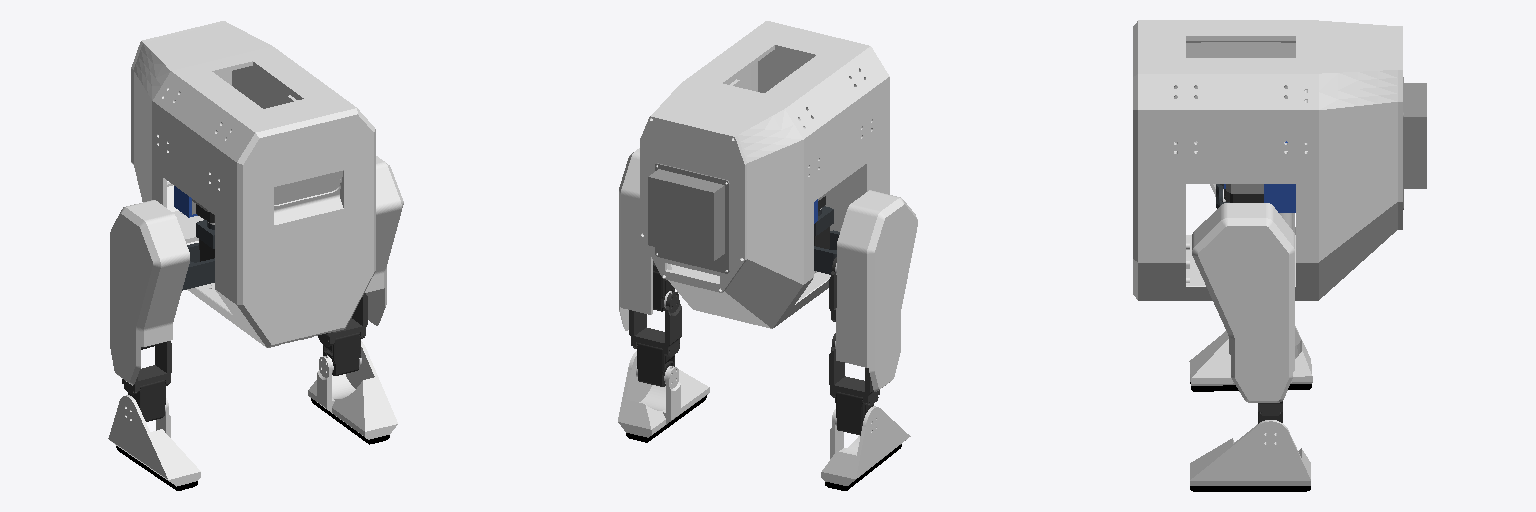
--- Render facts (derived) ---
The picture shows the robot from 3 angles, left to right: view 1: azimuth 30°, elevation 25°; view 2: azimuth 150°, elevation 25°; view 3: azimuth 270°, elevation 25°; orthographic projection.
Model my-robot with 11 links and 10 joints (10 revolute), rooted at front_panel, posed every joint at zero.
Links seen in each view (by area): view 1: front_panel, servo_holder_3_right, cushion_left, cushion_right, servo_holder_3_left, servo_holder_4_2, servo_holder_4, servo_holder_2_right, servo_holder_1_2; view 2: front_panel, servo_holder_3_right, servo_holder_3_left, cushion_left, cushion_right, servo_holder_4, servo_holder_4_2, servo_holder_2_right, servo_holder_1_2; view 3: front_panel, servo_holder_3_left, cushion_left, cushion_right.
Link boxes in pixels (x1,y1,x2,y2): front_panel: [131, 21, 375, 347]; servo_holder_3_right: [110, 200, 189, 385]; cushion_left: [308, 341, 397, 444]; cushion_right: [108, 395, 200, 490]; servo_holder_3_left: [365, 156, 403, 325]; servo_holder_4_2: [122, 341, 171, 421]; servo_holder_4: [318, 293, 367, 375]; servo_holder_2_right: [182, 243, 214, 290]; servo_holder_1_2: [196, 220, 214, 261]; front_panel: [640, 21, 889, 328]; servo_holder_3_right: [829, 190, 917, 391]; servo_holder_3_left: [619, 148, 674, 330]; cushion_left: [618, 351, 709, 442]; cushion_right: [821, 406, 910, 490]; servo_holder_4: [629, 291, 681, 386]; servo_holder_4_2: [829, 333, 879, 435]; servo_holder_2_right: [814, 230, 839, 274]; servo_holder_1_2: [814, 206, 833, 248]; front_panel: [1133, 20, 1426, 300]; servo_holder_3_left: [1192, 203, 1294, 402]; cushion_left: [1190, 420, 1310, 491]; cushion_right: [1189, 326, 1312, 391].
Bounding box of the posed robot: 0.3048 × 0.2892 × 0.4252 m (x, y, z).
95 mesh visuals loaded from 30 distinct referenced files (30 binary STL).

robot.urdf — my-robot:
<?xml version="1.0" ?>
<!-- Generated using onshape-to-robot -->
<!-- Onshape https://cad.onshape.com/documents/d45957d307d6fbeba266d572/w/bd9f549c3008356ba09feb92/e/47fc9c88b37be00f7acb3002 -->
<robot name="my-robot">
  <!-- Link front_panel -->
  <link name="front_panel">
    <inertial>
      <origin xyz="5.38804e-07 0.137822 0.00392853" rpy="0 0 0"/>
      <mass value="2.11436"/>
      <inertia ixx="0.0268936" ixy="8.14474e-06" ixz="4.80392e-07" iyy="0.0159621" iyz="-0.000408514" izz="0.0215141"/>
    </inertial>
    <!-- Part top_left_panel -->
    <visual>
      <origin xyz="0 0 -1.38778e-17" rpy="0 -0 0"/>
      <geometry>
        <mesh filename="package://assets/top_left_panel.stl"/>
      </geometry>
      <material name="top_left_panel_material">
        <color rgba="0.917647 0.917647 0.917647 1"/>
      </material>
    </visual>
    <collision>
      <origin xyz="0 0 -1.38778e-17" rpy="0 -0 0"/>
      <geometry>
        <mesh filename="package://assets/top_left_panel.stl"/>
      </geometry>
    </collision>
    <!-- Part top_right_panel -->
    <visual>
      <origin xyz="1.38778e-17 0 1.38778e-17" rpy="0 -0 0"/>
      <geometry>
        <mesh filename="package://assets/top_right_panel.stl"/>
      </geometry>
      <material name="top_right_panel_material">
        <color rgba="0.917647 0.917647 0.917647 1"/>
      </material>
    </visual>
    <collision>
      <origin xyz="1.38778e-17 0 1.38778e-17" rpy="0 -0 0"/>
      <geometry>
        <mesh filename="package://assets/top_right_panel.stl"/>
      </geometry>
    </collision>
    <!-- Part front_panel -->
    <visual>
      <origin xyz="0 0 0" rpy="0 -0 0"/>
      <geometry>
        <mesh filename="package://assets/front_panel.stl"/>
      </geometry>
      <material name="front_panel_material">
        <color rgba="0.917647 0.917647 0.917647 1"/>
      </material>
    </visual>
    <collision>
      <origin xyz="0 0 0" rpy="0 -0 0"/>
      <geometry>
        <mesh filename="package://assets/front_panel.stl"/>
      </geometry>
    </collision>
    <!-- Part servo_housing_connector -->
    <visual>
      <origin xyz="0.0505 0.121693 -0.00780285" rpy="0 -0 0"/>
      <geometry>
        <mesh filename="package://assets/servo_housing_connector.stl"/>
      </geometry>
      <material name="servo_housing_connector_material">
        <color rgba="0.917647 0.917647 0.917647 1"/>
      </material>
    </visual>
    <collision>
      <origin xyz="0.0505 0.121693 -0.00780285" rpy="0 -0 0"/>
      <geometry>
        <mesh filename="package://assets/servo_housing_connector.stl"/>
      </geometry>
    </collision>
    <!-- Part bottom_frame -->
    <visual>
      <origin xyz="0 0.0931549 -0.132536" rpy="0 -0 0"/>
      <geometry>
        <mesh filename="package://assets/bottom_frame.stl"/>
      </geometry>
      <material name="bottom_frame_material">
        <color rgba="0.917647 0.917647 0.917647 1"/>
      </material>
    </visual>
    <collision>
      <origin xyz="0 0.0931549 -0.132536" rpy="0 -0 0"/>
      <geometry>
        <mesh filename="package://assets/bottom_frame.stl"/>
      </geometry>
    </collision>
    <!-- Part battery_holder -->
    <visual>
      <origin xyz="0 0.10869 0" rpy="0 -0 0"/>
      <geometry>
        <mesh filename="package://assets/battery_holder.stl"/>
      </geometry>
      <material name="battery_holder_material">
        <color rgba="0.647059 0.647059 0.647059 1"/>
      </material>
    </visual>
    <collision>
      <origin xyz="0 0.10869 0" rpy="0 -0 0"/>
      <geometry>
        <mesh filename="package://assets/battery_holder.stl"/>
      </geometry>
    </collision>
    <!-- Part servo_holder_right -->
    <visual>
      <origin xyz="0.0505 0.121693 -0.00780285" rpy="0 -0 4.93038e-32"/>
      <geometry>
        <mesh filename="package://assets/servo_holder_right.stl"/>
      </geometry>
      <material name="servo_holder_right_material">
        <color rgba="0.647059 0.647059 0.647059 1"/>
      </material>
    </visual>
    <collision>
      <origin xyz="0.0505 0.121693 -0.00780285" rpy="0 -0 4.93038e-32"/>
      <geometry>
        <mesh filename="package://assets/servo_holder_right.stl"/>
      </geometry>
    </collision>
    <!-- Part top_servo_housing -->
    <visual>
      <origin xyz="0.0505 0.121693 -0.00780285" rpy="0 -0 0"/>
      <geometry>
        <mesh filename="package://assets/top_servo_housing.stl"/>
      </geometry>
      <material name="top_servo_housing_material">
        <color rgba="0.231373 0.380392 0.705882 1"/>
      </material>
    </visual>
    <collision>
      <origin xyz="0.0505 0.121693 -0.00780285" rpy="0 -0 0"/>
      <geometry>
        <mesh filename="package://assets/top_servo_housing.stl"/>
      </geometry>
    </collision>
    <!-- Part servo_holder_left -->
    <visual>
      <origin xyz="0.0505 0.121693 -0.00780285" rpy="0 -0 0"/>
      <geometry>
        <mesh filename="package://assets/servo_holder_left.stl"/>
      </geometry>
      <material name="servo_holder_left_material">
        <color rgba="0.647059 0.647059 0.647059 1"/>
      </material>
    </visual>
    <collision>
      <origin xyz="0.0505 0.121693 -0.00780285" rpy="0 -0 0"/>
      <geometry>
        <mesh filename="package://assets/servo_holder_left.stl"/>
      </geometry>
    </collision>
    <!-- Part back_middle_connector_panel -->
    <visual>
      <origin xyz="0 0.10869 0" rpy="0 -0 0"/>
      <geometry>
        <mesh filename="package://assets/back_middle_connector_panel.stl"/>
      </geometry>
      <material name="back_middle_connector_panel_material">
        <color rgba="0.917647 0.917647 0.917647 1"/>
      </material>
    </visual>
    <collision>
      <origin xyz="0 0.10869 0" rpy="0 -0 0"/>
      <geometry>
        <mesh filename="package://assets/back_middle_connector_panel.stl"/>
      </geometry>
    </collision>
    <!-- Part intelrealsense_d435_multibody -->
    <visual>
      <origin xyz="8.31354e-18 -0.00242253 0.0378849" rpy="1.8326 -0 0"/>
      <geometry>
        <mesh filename="package://assets/intelrealsense_d435_multibody.stl"/>
      </geometry>
      <material name="intelrealsense_d435_multibody_material">
        <color rgba="0.917647 0.917647 0.917647 1"/>
      </material>
    </visual>
    <collision>
      <origin xyz="8.31354e-18 -0.00242253 0.0378849" rpy="1.8326 -0 0"/>
      <geometry>
        <mesh filename="package://assets/intelrealsense_d435_multibody.stl"/>
      </geometry>
    </collision>
    <!-- Part composant4 -->
    <visual>
      <origin xyz="-0.0505 0.109426 -0.00780285" rpy="0 -0 -1.5708"/>
      <geometry>
        <mesh filename="package://assets/composant4.stl"/>
      </geometry>
      <material name="composant4_material">
        <color rgba="0.952941 0.796078 0.486275 1"/>
      </material>
    </visual>
    <collision>
      <origin xyz="-0.0505 0.109426 -0.00780285" rpy="0 -0 -1.5708"/>
      <geometry>
        <mesh filename="package://assets/composant4.stl"/>
      </geometry>
    </collision>
    <!-- Part vis_à_tête_tronconique_jis_b_1111___m3_x_4___h_acier_inoxydable_a2_standard_v1 -->
    <visual>
      <origin xyz="-0.0505 0.109426 -0.00780285" rpy="0 -0 -1.5708"/>
      <geometry>
        <mesh filename="package://assets/vis_à_tête_tronconique_jis_b_1111___m3_x_4___h_acier_inoxydable_a2_standard_v1.stl"/>
      </geometry>
      <material name="vis_à_tête_tronconique_jis_b_1111___m3_x_4___h_acier_inoxydable_a2_standard_v1_material">
        <color rgba="0.796078 0.796078 0.796078 1"/>
      </material>
    </visual>
    <collision>
      <origin xyz="-0.0505 0.109426 -0.00780285" rpy="0 -0 -1.5708"/>
      <geometry>
        <mesh filename="package://assets/vis_à_tête_tronconique_jis_b_1111___m3_x_4___h_acier_inoxydable_a2_standard_v1.stl"/>
      </geometry>
    </collision>
    <!-- Part vis -->
    <visual>
      <origin xyz="-0.0505 0.109426 -0.00780285" rpy="0 -0 -1.5708"/>
      <geometry>
        <mesh filename="package://assets/vis.stl"/>
      </geometry>
      <material name="vis_material">
        <color rgba="0.0980392 0.0980392 0.0980392 1"/>
      </material>
    </visual>
    <collision>
      <origin xyz="-0.0505 0.109426 -0.00780285" rpy="0 -0 -1.5708"/>
      <geometry>
        <mesh filename="package://assets/vis.stl"/>
      </geometry>
    </collision>
    <!-- Part composant3 -->
    <visual>
      <origin xyz="-0.0505 0.109426 -0.00780285" rpy="0 -0 -1.5708"/>
      <geometry>
        <mesh filename="package://assets/composant3.stl"/>
      </geometry>
      <material name="composant3_material">
        <color rgba="0.960784 0.960784 0.964706 1"/>
      </material>
    </visual>
    <collision>
      <origin xyz="-0.0505 0.109426 -0.00780285" rpy="0 -0 -1.5708"/>
      <geometry>
        <mesh filename="package://assets/composant3.stl"/>
      </geometry>
    </collision>
    <!-- Part vis_1 -->
    <visual>
      <origin xyz="-0.0505 0.109426 -0.00780285" rpy="0 -0 -1.5708"/>
      <geometry>
        <mesh filename="package://assets/vis_1.stl"/>
      </geometry>
      <material name="vis_1_material">
        <color rgba="0.0980392 0.0980392 0.0980392 1"/>
      </material>
    </visual>
    <collision>
      <origin xyz="-0.0505 0.109426 -0.00780285" rpy="0 -0 -1.5708"/>
      <geometry>
        <mesh filename="package://assets/vis_1.stl"/>
      </geometry>
    </collision>
    <!-- Part composant2 -->
    <visual>
      <origin xyz="-0.0505 0.109426 -0.00780285" rpy="0 -0 -1.5708"/>
      <geometry>
        <mesh filename="package://assets/composant2.stl"/>
      </geometry>
      <material name="composant2_material">
        <color rgba="0.960784 0.960784 0.964706 1"/>
      </material>
    </visual>
    <collision>
      <origin xyz="-0.0505 0.109426 -0.00780285" rpy="0 -0 -1.5708"/>
      <geometry>
        <mesh filename="package://assets/composant2.stl"/>
      </geometry>
    </collision>
    <!-- Part servo_motor_sts3215_v10 -->
    <visual>
      <origin xyz="-0.0505 0.109426 -0.00780285" rpy="0 -0 -1.5708"/>
      <geometry>
        <mesh filename="package://assets/servo_motor_sts3215_v10.stl"/>
      </geometry>
      <material name="servo_motor_sts3215_v10_material">
        <color rgba="0.247059 0.247059 0.247059 1"/>
      </material>
    </visual>
    <collision>
      <origin xyz="-0.0505 0.109426 -0.00780285" rpy="0 -0 -1.5708"/>
      <geometry>
        <mesh filename="package://assets/servo_motor_sts3215_v10.stl"/>
      </geometry>
    </collision>
    <!-- Part composant4_2 -->
    <visual>
      <origin xyz="0.0505 0.109426 -0.00780285" rpy="0 -0 -1.5708"/>
      <geometry>
        <mesh filename="package://assets/composant4.stl"/>
      </geometry>
      <material name="composant4_2_material">
        <color rgba="0.952941 0.796078 0.486275 1"/>
      </material>
    </visual>
    <collision>
      <origin xyz="0.0505 0.109426 -0.00780285" rpy="0 -0 -1.5708"/>
      <geometry>
        <mesh filename="package://assets/composant4.stl"/>
      </geometry>
    </collision>
    <!-- Part vis_à_tête_tronconique_jis_b_1111___m3_x_4___h_acier_inoxydable_a2_standard_v1_2 -->
    <visual>
      <origin xyz="0.0505 0.109426 -0.00780285" rpy="0 -0 -1.5708"/>
      <geometry>
        <mesh filename="package://assets/vis_à_tête_tronconique_jis_b_1111___m3_x_4___h_acier_inoxydable_a2_standard_v1.stl"/>
      </geometry>
      <material name="vis_à_tête_tronconique_jis_b_1111___m3_x_4___h_acier_inoxydable_a2_standard_v1_2_material">
        <color rgba="0.796078 0.796078 0.796078 1"/>
      </material>
    </visual>
    <collision>
      <origin xyz="0.0505 0.109426 -0.00780285" rpy="0 -0 -1.5708"/>
      <geometry>
        <mesh filename="package://assets/vis_à_tête_tronconique_jis_b_1111___m3_x_4___h_acier_inoxydable_a2_standard_v1.stl"/>
      </geometry>
    </collision>
    <!-- Part vis_2 -->
    <visual>
      <origin xyz="0.0505 0.109426 -0.00780285" rpy="0 -0 -1.5708"/>
      <geometry>
        <mesh filename="package://assets/vis.stl"/>
      </geometry>
      <material name="vis_2_material">
        <color rgba="0.0980392 0.0980392 0.0980392 1"/>
      </material>
    </visual>
    <collision>
      <origin xyz="0.0505 0.109426 -0.00780285" rpy="0 -0 -1.5708"/>
      <geometry>
        <mesh filename="package://assets/vis.stl"/>
      </geometry>
    </collision>
    <!-- Part composant3_2 -->
    <visual>
      <origin xyz="0.0505 0.109426 -0.00780285" rpy="0 -0 -1.5708"/>
      <geometry>
        <mesh filename="package://assets/composant3.stl"/>
      </geometry>
      <material name="composant3_2_material">
        <color rgba="0.960784 0.960784 0.964706 1"/>
      </material>
    </visual>
    <collision>
      <origin xyz="0.0505 0.109426 -0.00780285" rpy="0 -0 -1.5708"/>
      <geometry>
        <mesh filename="package://assets/composant3.stl"/>
      </geometry>
    </collision>
    <!-- Part vis_1_2 -->
    <visual>
      <origin xyz="0.0505 0.109426 -0.00780285" rpy="0 -0 -1.5708"/>
      <geometry>
        <mesh filename="package://assets/vis_1.stl"/>
      </geometry>
      <material name="vis_1_2_material">
        <color rgba="0.0980392 0.0980392 0.0980392 1"/>
      </material>
    </visual>
    <collision>
      <origin xyz="0.0505 0.109426 -0.00780285" rpy="0 -0 -1.5708"/>
      <geometry>
        <mesh filename="package://assets/vis_1.stl"/>
      </geometry>
    </collision>
    <!-- Part composant2_2 -->
    <visual>
      <origin xyz="0.0505 0.109426 -0.00780285" rpy="0 -0 -1.5708"/>
      <geometry>
        <mesh filename="package://assets/composant2.stl"/>
      </geometry>
      <material name="composant2_2_material">
        <color rgba="0.960784 0.960784 0.964706 1"/>
      </material>
    </visual>
    <collision>
      <origin xyz="0.0505 0.109426 -0.00780285" rpy="0 -0 -1.5708"/>
      <geometry>
        <mesh filename="package://assets/composant2.stl"/>
      </geometry>
    </collision>
    <!-- Part servo_motor_sts3215_v10_2 -->
    <visual>
      <origin xyz="0.0505 0.109426 -0.00780285" rpy="0 -0 -1.5708"/>
      <geometry>
        <mesh filename="package://assets/servo_motor_sts3215_v10.stl"/>
      </geometry>
      <material name="servo_motor_sts3215_v10_2_material">
        <color rgba="0.247059 0.247059 0.247059 1"/>
      </material>
    </visual>
    <collision>
      <origin xyz="0.0505 0.109426 -0.00780285" rpy="0 -0 -1.5708"/>
      <geometry>
        <mesh filename="package://assets/servo_motor_sts3215_v10.stl"/>
      </geometry>
    </collision>
  </link>
  <!-- Link servo_holder_1 -->
  <link name="servo_holder_1">
    <inertial>
      <origin xyz="0.000579635 -1.8372e-05 -0.0271009" rpy="0 0 0"/>
      <mass value="0.0493776"/>
      <inertia ixx="1.33434e-05" ixy="-5.36033e-10" ixz="2.26521e-07" iyy="1.60993e-05" iyz="2.33279e-08" izz="8.54377e-06"/>
    </inertial>
    <!-- Part servo_holder_1 -->
    <visual>
      <origin xyz="0 0 -0.003" rpy="0 -0 1.80228e-52"/>
      <geometry>
        <mesh filename="package://assets/servo_holder_1.stl"/>
      </geometry>
      <material name="servo_holder_1_material">
        <color rgba="0.262745 0.282353 0.301961 1"/>
      </material>
    </visual>
    <collision>
      <origin xyz="0 0 -0.003" rpy="0 -0 1.80228e-52"/>
      <geometry>
        <mesh filename="package://assets/servo_holder_1.stl"/>
      </geometry>
    </collision>
    <!-- Part composant4_3 -->
    <visual>
      <origin xyz="-1.38778e-17 0 -0.0307" rpy="-1.19758e-48 1.5708 0"/>
      <geometry>
        <mesh filename="package://assets/composant4.stl"/>
      </geometry>
      <material name="composant4_3_material">
        <color rgba="0.952941 0.796078 0.486275 1"/>
      </material>
    </visual>
    <collision>
      <origin xyz="-1.38778e-17 0 -0.0307" rpy="-1.19758e-48 1.5708 0"/>
      <geometry>
        <mesh filename="package://assets/composant4.stl"/>
      </geometry>
    </collision>
    <!-- Part vis_à_tête_tronconique_jis_b_1111___m3_x_4___h_acier_inoxydable_a2_standard_v1_3 -->
    <visual>
      <origin xyz="-1.38778e-17 0 -0.0307" rpy="-1.19758e-48 1.5708 0"/>
      <geometry>
        <mesh filename="package://assets/vis_à_tête_tronconique_jis_b_1111___m3_x_4___h_acier_inoxydable_a2_standard_v1.stl"/>
      </geometry>
      <material name="vis_à_tête_tronconique_jis_b_1111___m3_x_4___h_acier_inoxydable_a2_standard_v1_3_material">
        <color rgba="0.796078 0.796078 0.796078 1"/>
      </material>
    </visual>
    <collision>
      <origin xyz="-1.38778e-17 0 -0.0307" rpy="-1.19758e-48 1.5708 0"/>
      <geometry>
        <mesh filename="package://assets/vis_à_tête_tronconique_jis_b_1111___m3_x_4___h_acier_inoxydable_a2_standard_v1.stl"/>
      </geometry>
    </collision>
    <!-- Part vis_3 -->
    <visual>
      <origin xyz="-1.38778e-17 0 -0.0307" rpy="-1.19758e-48 1.5708 0"/>
      <geometry>
        <mesh filename="package://assets/vis.stl"/>
      </geometry>
      <material name="vis_3_material">
        <color rgba="0.0980392 0.0980392 0.0980392 1"/>
      </material>
    </visual>
    <collision>
      <origin xyz="-1.38778e-17 0 -0.0307" rpy="-1.19758e-48 1.5708 0"/>
      <geometry>
        <mesh filename="package://assets/vis.stl"/>
      </geometry>
    </collision>
    <!-- Part composant3_3 -->
    <visual>
      <origin xyz="-1.38778e-17 0 -0.0307" rpy="-1.19758e-48 1.5708 0"/>
      <geometry>
        <mesh filename="package://assets/composant3.stl"/>
      </geometry>
      <material name="composant3_3_material">
        <color rgba="0.960784 0.960784 0.964706 1"/>
      </material>
    </visual>
    <collision>
      <origin xyz="-1.38778e-17 0 -0.0307" rpy="-1.19758e-48 1.5708 0"/>
      <geometry>
        <mesh filename="package://assets/composant3.stl"/>
      </geometry>
    </collision>
    <!-- Part vis_1_3 -->
    <visual>
      <origin xyz="-1.38778e-17 0 -0.0307" rpy="-1.19758e-48 1.5708 0"/>
      <geometry>
        <mesh filename="package://assets/vis_1.stl"/>
      </geometry>
      <material name="vis_1_3_material">
        <color rgba="0.0980392 0.0980392 0.0980392 1"/>
      </material>
    </visual>
    <collision>
      <origin xyz="-1.38778e-17 0 -0.0307" rpy="-1.19758e-48 1.5708 0"/>
      <geometry>
        <mesh filename="package://assets/vis_1.stl"/>
      </geometry>
    </collision>
    <!-- Part composant2_3 -->
    <visual>
      <origin xyz="-1.38778e-17 0 -0.0307" rpy="-1.19758e-48 1.5708 0"/>
      <geometry>
        <mesh filename="package://assets/composant2.stl"/>
      </geometry>
      <material name="composant2_3_material">
        <color rgba="0.960784 0.960784 0.964706 1"/>
      </material>
    </visual>
    <collision>
      <origin xyz="-1.38778e-17 0 -0.0307" rpy="-1.19758e-48 1.5708 0"/>
      <geometry>
        <mesh filename="package://assets/composant2.stl"/>
      </geometry>
    </collision>
    <!-- Part servo_motor_sts3215_v10_3 -->
    <visual>
      <origin xyz="-1.38778e-17 0 -0.0307" rpy="-1.19758e-48 1.5708 0"/>
      <geometry>
        <mesh filename="package://assets/servo_motor_sts3215_v10.stl"/>
      </geometry>
      <material name="servo_motor_sts3215_v10_3_material">
        <color rgba="0.247059 0.247059 0.247059 1"/>
      </material>
    </visual>
    <collision>
      <origin xyz="-1.38778e-17 0 -0.0307" rpy="-1.19758e-48 1.5708 0"/>
      <geometry>
        <mesh filename="package://assets/servo_motor_sts3215_v10.stl"/>
      </geometry>
    </collision>
  </link>
  <!-- Link servo_holder_2_left -->
  <link name="servo_holder_2_left">
    <inertial>
      <origin xyz="0.0580813 -0.000684249 0.0163595" rpy="0 0 0"/>
      <mass value="0.102592"/>
      <inertia ixx="4.1094e-05" ixy="-1.77793e-06" ixz="2.83518e-06" iyy="7.91882e-05" iyz="2.87726e-07" izz="5.09334e-05"/>
    </inertial>
    <!-- Part servo_holder_2_left -->
    <visual>
      <origin xyz="0 0.0182 0.0182" rpy="-1.5708 -1.80228e-52 0"/>
      <geometry>
        <mesh filename="package://assets/servo_holder_2_left.stl"/>
      </geometry>
      <material name="servo_holder_2_left_material">
        <color rgba="0.262745 0.282353 0.301961 1"/>
      </material>
    </visual>
    <collision>
      <origin xyz="0 0.0182 0.0182" rpy="-1.5708 -1.80228e-52 0"/>
      <geometry>
        <mesh filename="package://assets/servo_holder_2_left.stl"/>
      </geometry>
    </collision>
    <!-- Part composant4_4 -->
    <visual>
      <origin xyz="0.0689457 1.38778e-17 0.00149936" rpy="-3.14159 1.5708 0"/>
      <geometry>
        <mesh filename="package://assets/composant4.stl"/>
      </geometry>
      <material name="composant4_4_material">
        <color rgba="0.952941 0.796078 0.486275 1"/>
      </material>
    </visual>
    <collision>
      <origin xyz="0.0689457 1.38778e-17 0.00149936" rpy="-3.14159 1.5708 0"/>
      <geometry>
        <mesh filename="package://assets/composant4.stl"/>
      </geometry>
    </collision>
    <!-- Part vis_à_tête_tronconique_jis_b_1111___m3_x_4___h_acier_inoxydable_a2_standard_v1_4 -->
    <visual>
      <origin xyz="0.0689457 1.38778e-17 0.00149936" rpy="-3.14159 1.5708 0"/>
      <geometry>
        <mesh filename="package://assets/vis_à_tête_tronconique_jis_b_1111___m3_x_4___h_acier_inoxydable_a2_standard_v1.stl"/>
      </geometry>
      <material name="vis_à_tête_tronconique_jis_b_1111___m3_x_4___h_acier_inoxydable_a2_standard_v1_4_material">
        <color rgba="0.796078 0.796078 0.796078 1"/>
      </material>
    </visual>
    <collision>
      <origin xyz="0.0689457 1.38778e-17 0.00149936" rpy="-3.14159 1.5708 0"/>
      <geometry>
        <mesh filename="package://assets/vis_à_tête_tronconique_jis_b_1111___m3_x_4___h_acier_inoxydable_a2_standard_v1.stl"/>
      </geometry>
    </collision>
    <!-- Part vis_4 -->
    <visual>
      <origin xyz="0.0689457 1.38778e-17 0.00149936" rpy="-3.14159 1.5708 0"/>
      <geometry>
        <mesh filename="package://assets/vis.stl"/>
      </geometry>
      <material name="vis_4_material">
        <color rgba="0.0980392 0.0980392 0.0980392 1"/>
      </material>
    </visual>
    <collision>
      <origin xyz="0.0689457 1.38778e-17 0.00149936" rpy="-3.14159 1.5708 0"/>
      <geometry>
        <mesh filename="package://assets/vis.stl"/>
      </geometry>
    </collision>
    <!-- Part composant3_4 -->
    <visual>
      <origin xyz="0.0689457 1.38778e-17 0.00149936" rpy="-3.14159 1.5708 0"/>
      <geometry>
        <mesh filename="package://assets/composant3.stl"/>
      </geometry>
      <material name="composant3_4_material">
        <color rgba="0.960784 0.960784 0.964706 1"/>
      </material>
    </visual>
    <collision>
      <origin xyz="0.0689457 1.38778e-17 0.00149936" rpy="-3.14159 1.5708 0"/>
      <geometry>
        <mesh filename="package://assets/composant3.stl"/>
      </geometry>
    </collision>
    <!-- Part vis_1_4 -->
    <visual>
      <origin xyz="0.0689457 1.38778e-17 0.00149936" rpy="-3.14159 1.5708 0"/>
      <geometry>
        <mesh filename="package://assets/vis_1.stl"/>
      </geometry>
      <material name="vis_1_4_material">
        <color rgba="0.0980392 0.0980392 0.0980392 1"/>
      </material>
    </visual>
    <collision>
      <origin xyz="0.0689457 1.38778e-17 0.00149936" rpy="-3.14159 1.5708 0"/>
      <geometry>
        <mesh filename="package://assets/vis_1.stl"/>
      </geometry>
    </collision>
    <!-- Part composant2_4 -->
    <visual>
      <origin xyz="0.0689457 1.38778e-17 0.00149936" rpy="-3.14159 1.5708 0"/>
      <geometry>
        <mesh filename="package://assets/composant2.stl"/>
      </geometry>
      <material name="composant2_4_material">
        <color rgba="0.960784 0.960784 0.964706 1"/>
      </material>
    </visual>
    <collision>
      <origin xyz="0.0689457 1.38778e-17 0.00149936" rpy="-3.14159 1.5708 0"/>
      <geometry>
        <mesh filename="package://assets/composant2.stl"/>
      </geometry>
    </collision>
    <!-- Part servo_motor_sts3215_v10_4 -->
    <visual>
      <origin xyz="0.0689457 1.38778e-17 0.00149936" rpy="-3.14159 1.5708 0"/>
      <geometry>
        <mesh filename="package://assets/servo_motor_sts3215_v10.stl"/>
      </geometry>
      <material name="servo_motor_sts3215_v10_4_material">
        <color rgba="0.247059 0.247059 0.247059 1"/>
      </material>
    </visual>
    <collision>
      <origin xyz="0.0689457 1.38778e-17 0.00149936" rpy="-3.14159 1.5708 0"/>
      <geometry>
        <mesh filename="package://assets/servo_motor_sts3215_v10.stl"/>
      </geometry>
    </collision>
  </link>
  <!-- Link servo_holder_3_left -->
  <link name="servo_holder_3_left">
    <inertial>
      <origin xyz="0.0267296 0.0112713 0.00428749" rpy="0 0 0"/>
      <mass value="0.19139"/>
      <inertia ixx="0.000183612" ixy="8.65452e-05" ixz="-2.98109e-05" iyy="0.000536696" iyz="1.59908e-05" izz="0.000608291"/>
    </inertial>
    <!-- Part servo_shield_left -->
    <visual>
      <origin xyz="-1.38778e-17 2.77556e-17 0" rpy="3.14159 1.20371e-35 1.9082e-54"/>
      <geometry>
        <mesh filename="package://assets/servo_shield_left.stl"/>
      </geometry>
      <material name="servo_shield_left_material">
        <color rgba="0.917647 0.917647 0.917647 1"/>
      </material>
    </visual>
    <collision>
      <origin xyz="-1.38778e-17 2.77556e-17 0" rpy="3.14159 1.20371e-35 1.9082e-54"/>
      <geometry>
        <mesh filename="package://assets/servo_shield_left.stl"/>
      </geometry>
    </collision>
    <!-- Part servo_holder_3_left -->
    <visual>
      <origin xyz="0 0 0" rpy="3.14159 -0 0"/>
      <geometry>
        <mesh filename="package://assets/servo_holder_3_left.stl"/>
      </geometry>
      <material name="servo_holder_3_left_material">
        <color rgba="0.301961 0.301961 0.301961 1"/>
      </material>
    </visual>
    <collision>
      <origin xyz="0 0 0" rpy="3.14159 -0 0"/>
      <geometry>
        <mesh filename="package://assets/servo_holder_3_left.stl"/>
      </geometry>
    </collision>
    <!-- Part composant4_5 -->
    <visual>
      <origin xyz="0.0732925 0 0.0178756" rpy="2.40741e-35 -0 0"/>
      <geometry>
        <mesh filename="package://assets/composant4.stl"/>
      </geometry>
      <material name="composant4_5_material">
        <color rgba="0.952941 0.796078 0.486275 1"/>
      </material>
    </visual>
    <collision>
      <origin xyz="0.0732925 0 0.0178756" rpy="2.40741e-35 -0 0"/>
      <geometry>
        <mesh filename="package://assets/composant4.stl"/>
      </geometry>
    </collision>
    <!-- Part vis_à_tête_tronconique_jis_b_1111___m3_x_4___h_acier_inoxydable_a2_standard_v1_5 -->
    <visual>
      <origin xyz="0.0732925 0 0.0178756" rpy="2.40741e-35 -0 0"/>
      <geometry>
        <mesh filename="package://assets/vis_à_tête_tronconique_jis_b_1111___m3_x_4___h_acier_inoxydable_a2_standard_v1.stl"/>
      </geometry>
      <material name="vis_à_tête_tronconique_jis_b_1111___m3_x_4___h_acier_inoxydable_a2_standard_v1_5_material">
        <color rgba="0.796078 0.796078 0.796078 1"/>
      </material>
    </visual>
    <collision>
      <origin xyz="0.0732925 0 0.0178756" rpy="2.40741e-35 -0 0"/>
      <geometry>
        <mesh filename="package://assets/vis_à_tête_tronconique_jis_b_1111___m3_x_4___h_acier_inoxydable_a2_standard_v1.stl"/>
      </geometry>
    </collision>
    <!-- Part vis_5 -->
    <visual>
      <origin xyz="0.0732925 0 0.0178756" rpy="2.40741e-35 -0 0"/>
      <geometry>
        <mesh filename="package://assets/vis.stl"/>
      </geometry>
      <material name="vis_5_material">
        <color rgba="0.0980392 0.0980392 0.0980392 1"/>
      </material>
    </visual>
    <collision>
      <origin xyz="0.0732925 0 0.0178756" rpy="2.40741e-35 -0 0"/>
      <geometry>
        <mesh filename="package://assets/vis.stl"/>
      </geometry>
    </collision>
    <!-- Part composant3_5 -->
    <visual>
      <origin xyz="0.0732925 0 0.0178756" rpy="2.40741e-35 -0 0"/>
      <geometry>
        <mesh filename="package://assets/composant3.stl"/>
      </geometry>
      <material name="composant3_5_material">
        <color rgba="0.960784 0.960784 0.964706 1"/>
      </material>
    </visual>
    <collision>
      <origin xyz="0.0732925 0 0.0178756" rpy="2.40741e-35 -0 0"/>
      <geometry>
        <mesh filename="package://assets/composant3.stl"/>
      </geometry>
    </collision>
    <!-- Part vis_1_5 -->
    <visual>
      <origin xyz="0.0732925 0 0.0178756" rpy="2.40741e-35 -0 0"/>
      <geometry>
        <mesh filename="package://assets/vis_1.stl"/>
      </geometry>
      <material name="vis_1_5_material">
        <color rgba="0.0980392 0.0980392 0.0980392 1"/>
      </material>
    </visual>
    <collision>
      <origin xyz="0.0732925 0 0.0178756" rpy="2.40741e-35 -0 0"/>
      <geometry>
        <mesh filename="package://assets/vis_1.stl"/>
      </geometry>
    </collision>
    <!-- Part composant2_5 -->
    <visual>
      <origin xyz="0.0732925 0 0.0178756" rpy="2.40741e-35 -0 0"/>
      <geometry>
        <mesh filename="package://assets/composant2.stl"/>
      </geometry>
      <material name="composant2_5_material">
        <color rgba="0.960784 0.960784 0.964706 1"/>
      </material>
    </visual>
    <collision>
      <origin xyz="0.0732925 0 0.0178756" rpy="2.40741e-35 -0 0"/>
      <geometry>
        <mesh filename="package://assets/composant2.stl"/>
      </geometry>
    </collision>
    <!-- Part servo_motor_sts3215_v10_5 -->
    <visual>
      <origin xyz="0.0732925 0 0.0178756" rpy="2.40741e-35 -0 0"/>
      <geometry>
        <mesh filename="package://assets/servo_motor_sts3215_v10.stl"/>
      </geometry>
      <material name="servo_motor_sts3215_v10_5_material">
        <color rgba="0.247059 0.247059 0.247059 1"/>
      </material>
    </visual>
    <collision>
      <origin xyz="0.0732925 0 0.0178756" rpy="2.40741e-35 -0 0"/>
      <geometry>
        <mesh filename="package://assets/servo_motor_sts3215_v10.stl"/>
      </geometry>
    </collision>
  </link>
  <!-- Link servo_holder_4 -->
  <link name="servo_holder_4">
    <inertial>
      <origin xyz="0.0568324 -1.23844e-08 0.0184417" rpy="0 0 0"/>
      <mass value="0.0685705"/>
      <inertia ixx="1.76251e-05" ixy="1.73396e-11" ixz="-3.72672e-07" iyy="5.60759e-05" iyz="-1.06476e-11" izz="4.51319e-05"/>
    </inertial>
    <!-- Part servo_holder_4 -->
    <visual>
      <origin xyz="0 0 0" rpy="-3.14159 2.73691e-47 2.60541e-65"/>
      <geometry>
        <mesh filename="package://assets/servo_holder_4.stl"/>
      </geometry>
      <material name="servo_holder_4_material">
        <color rgba="0.301961 0.301961 0.301961 1"/>
      </material>
    </visual>
    <collision>
      <origin xyz="0 0 0" rpy="-3.14159 2.73691e-47 2.60541e-65"/>
      <geometry>
        <mesh filename="package://assets/servo_holder_4.stl"/>
      </geometry>
    </collision>
    <!-- Part composant4_6 -->
    <visual>
      <origin xyz="0.0732925 0 0.0178756" rpy="-1.31228e-30 -7.65581e-31 -6.13909e-17"/>
      <geometry>
        <mesh filename="package://assets/composant4.stl"/>
      </geometry>
      <material name="composant4_6_material">
        <color rgba="0.952941 0.796078 0.486275 1"/>
      </material>
    </visual>
    <collision>
      <origin xyz="0.0732925 0 0.0178756" rpy="-1.31228e-30 -7.65581e-31 -6.13909e-17"/>
      <geometry>
        <mesh filename="package://assets/composant4.stl"/>
      </geometry>
    </collision>
    <!-- Part vis_à_tête_tronconique_jis_b_1111___m3_x_4___h_acier_inoxydable_a2_standard_v1_6 -->
    <visual>
      <origin xyz="0.0732925 0 0.0178756" rpy="-1.31228e-30 -7.65581e-31 -6.13909e-17"/>
      <geometry>
        <mesh filename="package://assets/vis_à_tête_tronconique_jis_b_1111___m3_x_4___h_acier_inoxydable_a2_standard_v1.stl"/>
      </geometry>
      <material name="vis_à_tête_tronconique_jis_b_1111___m3_x_4___h_acier_inoxydable_a2_standard_v1_6_material">
        <color rgba="0.796078 0.796078 0.796078 1"/>
      </material>
    </visual>
    <collision>
      <origin xyz="0.0732925 0 0.0178756" rpy="-1.31228e-30 -7.65581e-31 -6.13909e-17"/>
      <geometry>
        <mesh filename="package://assets/vis_à_tête_tronconique_jis_b_1111___m3_x_4___h_acier_inoxydable_a2_standard_v1.stl"/>
      </geometry>
    </collision>
    <!-- Part vis_6 -->
    <visual>
      <origin xyz="0.0732925 0 0.0178756" rpy="-1.31228e-30 -7.65581e-31 -6.13909e-17"/>
      <geometry>
        <mesh filename="package://assets/vis.stl"/>
      </geometry>
      <material name="vis_6_material">
        <color rgba="0.0980392 0.0980392 0.0980392 1"/>
      </material>
    </visual>
    <collision>
      <origin xyz="0.0732925 0 0.0178756" rpy="-1.31228e-30 -7.65581e-31 -6.13909e-17"/>
      <geometry>
        <mesh filename="package://assets/vis.stl"/>
      </geometry>
    </collision>
    <!-- Part composant3_6 -->
    <visual>
      <origin xyz="0.0732925 0 0.0178756" rpy="-1.31228e-30 -7.65581e-31 -6.13909e-17"/>
      <geometry>
        <mesh filename="package://assets/composant3.stl"/>
      </geometry>
      <material name="composant3_6_material">
        <color rgba="0.960784 0.960784 0.964706 1"/>
      </material>
    </visual>
    <collision>
      <origin xyz="0.0732925 0 0.0178756" rpy="-1.31228e-30 -7.65581e-31 -6.13909e-17"/>
      <geometry>
        <mesh filename="package://assets/composant3.stl"/>
      </geometry>
    </collision>
    <!-- Part vis_1_6 -->
    <visual>
      <origin xyz="0.0732925 0 0.0178756" rpy="-1.31228e-30 -7.65581e-31 -6.13909e-17"/>
      <geometry>
        <mesh filename="package://assets/vis_1.stl"/>
      </geometry>
      <material name="vis_1_6_material">
        <color rgba="0.0980392 0.0980392 0.0980392 1"/>
      </material>
    </visual>
    <collision>
      <origin xyz="0.0732925 0 0.0178756" rpy="-1.31228e-30 -7.65581e-31 -6.13909e-17"/>
      <geometry>
        <mesh filename="package://assets/vis_1.stl"/>
      </geometry>
    </collision>
    <!-- Part composant2_6 -->
    <visual>
      <origin xyz="0.0732925 0 0.0178756" rpy="-1.31228e-30 -7.65581e-31 -6.13909e-17"/>
      <geometry>
        <mesh filename="package://assets/composant2.stl"/>
      </geometry>
      <material name="composant2_6_material">
        <color rgba="0.960784 0.960784 0.964706 1"/>
      </material>
    </visual>
    <collision>
      <origin xyz="0.0732925 0 0.0178756" rpy="-1.31228e-30 -7.65581e-31 -6.13909e-17"/>
      <geometry>
        <mesh filename="package://assets/composant2.stl"/>
      </geometry>
    </collision>
    <!-- Part servo_motor_sts3215_v10_6 -->
    <visual>
      <origin xyz="0.0732925 0 0.0178756" rpy="-1.31228e-30 -7.65581e-31 -6.13909e-17"/>
      <geometry>
        <mesh filename="package://assets/servo_motor_sts3215_v10.stl"/>
      </geometry>
      <material name="servo_motor_sts3215_v10_6_material">
        <color rgba="0.247059 0.247059 0.247059 1"/>
      </material>
    </visual>
    <collision>
      <origin xyz="0.0732925 0 0.0178756" rpy="-1.31228e-30 -7.65581e-31 -6.13909e-17"/>
      <geometry>
        <mesh filename="package://assets/servo_motor_sts3215_v10.stl"/>
      </geometry>
    </collision>
  </link>
  <!-- Link cushion_left -->
  <link name="cushion_left">
    <inertial>
      <origin xyz="-0.0194706 0.0420367 0.0158895" rpy="0 0 0"/>
      <mass value="0.191143"/>
      <inertia ixx="6.6193e-05" ixy="3.74292e-06" ixz="-1.39334e-06" iyy="0.000224241" iyz="-9.58455e-06" izz="0.00023826"/>
    </inertial>
    <!-- Part foot_left -->
    <visual>
      <origin xyz="0 0.0516163 0.0390687" rpy="1.5708 1.5708 0"/>
      <geometry>
        <mesh filename="package://assets/foot_left.stl"/>
      </geometry>
      <material name="foot_left_material">
        <color rgba="0.917647 0.917647 0.917647 1"/>
      </material>
    </visual>
    <!-- Part cushion_left -->
    <visual>
      <origin xyz="0 0.0516163 0.0390687" rpy="1.5708 1.5708 0"/>
      <geometry>
        <mesh filename="package://assets/cushion_left.stl"/>
      </geometry>
      <material name="cushion_left_material">
        <color rgba="0 0 0 1"/>
      </material>
    </visual>
    <collision>
      <origin xyz="0 0.0516163 0.0390687" rpy="1.5708 1.5708 0"/>
      <geometry>
        <mesh filename="package://assets/cushion_left.stl"/>
      </geometry>
    </collision>
  </link>
  <!-- Joint from servo_holder_4 to cushion_left -->
  <joint name="joint_5_left" type="revolute">
    <origin xyz="0.0857925 0 0.0365756" rpy="3.14159 1.31228e-30 1.5708"/>
    <parent link="servo_holder_4"/>
    <child link="cushion_left"/>
    <axis xyz="0 0 1"/>
    <limit effort="2.686" velocity="9.01" lower="-1.5708" upper="1.5708"/>
    <dynamics damping="0.1" friction="0.05"/>
  </joint>
  <!-- Joint from servo_holder_3_left to servo_holder_4 -->
  <joint name="joint_4_left" type="revolute">
    <origin xyz="0.0857925 0 0.0365756" rpy="-3.14159 -9.52697e-31 -1.51028e-49"/>
    <parent link="servo_holder_3_left"/>
    <child link="servo_holder_4"/>
    <axis xyz="0 0 1"/>
    <limit effort="2.686" velocity="9.01" lower="-1.13446" upper="0.558505"/>
    <dynamics damping="0.1" friction="0.05"/>
  </joint>
  <!-- Joint from servo_holder_2_left to servo_holder_3_left -->
  <joint name="joint_3_left" type="revolute">
    <origin xyz="0.0866457 1.38778e-17 -0.0110006" rpy="1.5708 1.58527e-19 -1.5708"/>
    <parent link="servo_holder_2_left"/>
    <child link="servo_holder_3_left"/>
    <axis xyz="0 0 1"/>
    <limit effort="2.686" velocity="9.01" lower="-3.14159" upper="0.349066"/>
    <dynamics damping="0.1" friction="0.05"/>
  </joint>
  <!-- Joint from servo_holder_1 to servo_holder_2_left -->
  <joint name="joint_2_left" type="revolute">
    <origin xyz="0.0187 0 -0.0432" rpy="1.5708 -0 -1.5708"/>
    <parent link="servo_holder_1"/>
    <child link="servo_holder_2_left"/>
    <axis xyz="0 0 1"/>
    <limit effort="2.686" velocity="9.01" lower="-0.698132" upper="0.785398"/>
    <dynamics damping="0.1" friction="0.05"/>
  </joint>
  <!-- Joint from front_panel to servo_holder_1 -->
  <joint name="joint_1_left" type="revolute">
    <origin xyz="0.0505 0.0969262 -0.0255029" rpy="-3.02761e-17 1.58527e-19 1.5708"/>
    <parent link="front_panel"/>
    <child link="servo_holder_1"/>
    <axis xyz="0 0 1"/>
    <limit effort="2.686" velocity="9.01" lower="-0.349066" upper="0.349066"/>
    <dynamics damping="0.1" friction="0.05"/>
  </joint>
  <!-- Link servo_holder_1_2 -->
  <link name="servo_holder_1_2">
    <inertial>
      <origin xyz="-0.000456244 -1.83429e-05 -0.0271009" rpy="0 0 0"/>
      <mass value="0.0493776"/>
      <inertia ixx="1.33434e-05" ixy="4.03024e-10" ixz="-3.15573e-07" iyy="1.61056e-05" iyz="2.33556e-08" izz="8.55008e-06"/>
    </inertial>
    <!-- Part servo_holder_1_2 -->
    <visual>
      <origin xyz="0 0 -0.003" rpy="0 -0 1.94261e-48"/>
      <geometry>
        <mesh filename="package://assets/servo_holder_1.stl"/>
      </geometry>
      <material name="servo_holder_1_2_material">
        <color rgba="0.262745 0.282353 0.301961 1"/>
      </material>
    </visual>
    <collision>
      <origin xyz="0 0 -0.003" rpy="0 -0 1.94261e-48"/>
      <geometry>
        <mesh filename="package://assets/servo_holder_1.stl"/>
      </geometry>
    </collision>
    <!-- Part composant4_7 -->
    <visual>
      <origin xyz="0 0 -0.0307" rpy="3.14159 1.5708 0"/>
      <geometry>
        <mesh filename="package://assets/composant4.stl"/>
      </geometry>
      <material name="composant4_7_material">
        <color rgba="0.952941 0.796078 0.486275 1"/>
      </material>
    </visual>
    <collision>
      <origin xyz="0 0 -0.0307" rpy="3.14159 1.5708 0"/>
      <geometry>
        <mesh filename="package://assets/composant4.stl"/>
      </geometry>
    </collision>
    <!-- Part vis_à_tête_tronconique_jis_b_1111___m3_x_4___h_acier_inoxydable_a2_standard_v1_7 -->
    <visual>
      <origin xyz="0 0 -0.0307" rpy="3.14159 1.5708 0"/>
      <geometry>
        <mesh filename="package://assets/vis_à_tête_tronconique_jis_b_1111___m3_x_4___h_acier_inoxydable_a2_standard_v1.stl"/>
      </geometry>
      <material name="vis_à_tête_tronconique_jis_b_1111___m3_x_4___h_acier_inoxydable_a2_standard_v1_7_material">
        <color rgba="0.796078 0.796078 0.796078 1"/>
      </material>
    </visual>
    <collision>
      <origin xyz="0 0 -0.0307" rpy="3.14159 1.5708 0"/>
      <geometry>
        <mesh filename="package://assets/vis_à_tête_tronconique_jis_b_1111___m3_x_4___h_acier_inoxydable_a2_standard_v1.stl"/>
      </geometry>
    </collision>
    <!-- Part vis_7 -->
    <visual>
      <origin xyz="0 0 -0.0307" rpy="3.14159 1.5708 0"/>
      <geometry>
        <mesh filename="package://assets/vis.stl"/>
      </geometry>
      <material name="vis_7_material">
        <color rgba="0.0980392 0.0980392 0.0980392 1"/>
      </material>
    </visual>
    <collision>
      <origin xyz="0 0 -0.0307" rpy="3.14159 1.5708 0"/>
      <geometry>
        <mesh filename="package://assets/vis.stl"/>
      </geometry>
    </collision>
    <!-- Part composant3_7 -->
    <visual>
      <origin xyz="0 0 -0.0307" rpy="3.14159 1.5708 0"/>
      <geometry>
        <mesh filename="package://assets/composant3.stl"/>
      </geometry>
      <material name="composant3_7_material">
        <color rgba="0.960784 0.960784 0.964706 1"/>
      </material>
    </visual>
    <collision>
      <origin xyz="0 0 -0.0307" rpy="3.14159 1.5708 0"/>
      <geometry>
        <mesh filename="package://assets/composant3.stl"/>
      </geometry>
    </collision>
    <!-- Part vis_1_7 -->
    <visual>
      <origin xyz="0 0 -0.0307" rpy="3.14159 1.5708 0"/>
      <geometry>
        <mesh filename="package://assets/vis_1.stl"/>
      </geometry>
      <material name="vis_1_7_material">
        <color rgba="0.0980392 0.0980392 0.0980392 1"/>
      </material>
    </visual>
    <collision>
      <origin xyz="0 0 -0.0307" rpy="3.14159 1.5708 0"/>
      <geometry>
        <mesh filename="package://assets/vis_1.stl"/>
      </geometry>
    </collision>
    <!-- Part composant2_7 -->
    <visual>
      <origin xyz="0 0 -0.0307" rpy="3.14159 1.5708 0"/>
      <geometry>
        <mesh filename="package://assets/composant2.stl"/>
      </geometry>
      <material name="composant2_7_material">
        <color rgba="0.960784 0.960784 0.964706 1"/>
      </material>
    </visual>
    <collision>
      <origin xyz="0 0 -0.0307" rpy="3.14159 1.5708 0"/>
      <geometry>
        <mesh filename="package://assets/composant2.stl"/>
      </geometry>
    </collision>
    <!-- Part servo_motor_sts3215_v10_7 -->
    <visual>
      <origin xyz="0 0 -0.0307" rpy="3.14159 1.5708 0"/>
      <geometry>
        <mesh filename="package://assets/servo_motor_sts3215_v10.stl"/>
      </geometry>
      <material name="servo_motor_sts3215_v10_7_material">
        <color rgba="0.247059 0.247059 0.247059 1"/>
      </material>
    </visual>
    <collision>
      <origin xyz="0 0 -0.0307" rpy="3.14159 1.5708 0"/>
      <geometry>
        <mesh filename="package://assets/servo_motor_sts3215_v10.stl"/>
      </geometry>
    </collision>
  </link>
  <!-- Link servo_holder_2_right -->
  <link name="servo_holder_2_right">
    <inertial>
      <origin xyz="-0.0579795 -0.000696507 0.0162624" rpy="0 0 0"/>
      <mass value="0.103289"/>
      <inertia ixx="4.12917e-05" ixy="1.79684e-06" ixz="-2.68334e-06" iyy="7.95052e-05" iyz="2.69597e-07" izz="5.11299e-05"/>
    </inertial>
    <!-- Part servo_holder_2_right -->
    <visual>
      <origin xyz="0.100812 0.0182 0.0129527" rpy="-1.5708 0.104008 6.19646e-33"/>
      <geometry>
        <mesh filename="package://assets/servo_holder_2_right.stl"/>
      </geometry>
      <material name="servo_holder_2_right_material">
        <color rgba="0.262745 0.282353 0.301961 1"/>
      </material>
    </visual>
    <collision>
      <origin xyz="0.100812 0.0182 0.0129527" rpy="-1.5708 0.104008 6.19646e-33"/>
      <geometry>
        <mesh filename="package://assets/servo_holder_2_right.stl"/>
      </geometry>
    </collision>
    <!-- Part composant4_8 -->
    <visual>
      <origin xyz="-0.0689457 -1.38778e-16 0.00149936" rpy="-6.39169e-18 1.5708 0"/>
      <geometry>
        <mesh filename="package://assets/composant4.stl"/>
      </geometry>
      <material name="composant4_8_material">
        <color rgba="0.952941 0.796078 0.486275 1"/>
      </material>
    </visual>
    <collision>
      <origin xyz="-0.0689457 -1.38778e-16 0.00149936" rpy="-6.39169e-18 1.5708 0"/>
      <geometry>
        <mesh filename="package://assets/composant4.stl"/>
      </geometry>
    </collision>
    <!-- Part vis_à_tête_tronconique_jis_b_1111___m3_x_4___h_acier_inoxydable_a2_standard_v1_8 -->
    <visual>
      <origin xyz="-0.0689457 -1.38778e-16 0.00149936" rpy="-6.39169e-18 1.5708 0"/>
      <geometry>
        <mesh filename="package://assets/vis_à_tête_tronconique_jis_b_1111___m3_x_4___h_acier_inoxydable_a2_standard_v1.stl"/>
      </geometry>
      <material name="vis_à_tête_tronconique_jis_b_1111___m3_x_4___h_acier_inoxydable_a2_standard_v1_8_material">
        <color rgba="0.796078 0.796078 0.796078 1"/>
      </material>
    </visual>
    <collision>
      <origin xyz="-0.0689457 -1.38778e-16 0.00149936" rpy="-6.39169e-18 1.5708 0"/>
      <geometry>
        <mesh filename="package://assets/vis_à_tête_tronconique_jis_b_1111___m3_x_4___h_acier_inoxydable_a2_standard_v1.stl"/>
      </geometry>
    </collision>
    <!-- Part vis_8 -->
    <visual>
      <origin xyz="-0.0689457 -1.38778e-16 0.00149936" rpy="-6.39169e-18 1.5708 0"/>
      <geometry>
        <mesh filename="package://assets/vis.stl"/>
      </geometry>
      <material name="vis_8_material">
        <color rgba="0.0980392 0.0980392 0.0980392 1"/>
      </material>
    </visual>
    <collision>
      <origin xyz="-0.0689457 -1.38778e-16 0.00149936" rpy="-6.39169e-18 1.5708 0"/>
      <geometry>
        <mesh filename="package://assets/vis.stl"/>
      </geometry>
    </collision>
    <!-- Part composant3_8 -->
    <visual>
      <origin xyz="-0.0689457 -1.38778e-16 0.00149936" rpy="-6.39169e-18 1.5708 0"/>
      <geometry>
        <mesh filename="package://assets/composant3.stl"/>
      </geometry>
      <material name="composant3_8_material">
        <color rgba="0.960784 0.960784 0.964706 1"/>
      </material>
    </visual>
    <collision>
      <origin xyz="-0.0689457 -1.38778e-16 0.00149936" rpy="-6.39169e-18 1.5708 0"/>
      <geometry>
        <mesh filename="package://assets/composant3.stl"/>
      </geometry>
    </collision>
    <!-- Part vis_1_8 -->
    <visual>
      <origin xyz="-0.0689457 -1.38778e-16 0.00149936" rpy="-6.39169e-18 1.5708 0"/>
      <geometry>
        <mesh filename="package://assets/vis_1.stl"/>
      </geometry>
      <material name="vis_1_8_material">
        <color rgba="0.0980392 0.0980392 0.0980392 1"/>
      </material>
    </visual>
    <collision>
      <origin xyz="-0.0689457 -1.38778e-16 0.00149936" rpy="-6.39169e-18 1.5708 0"/>
      <geometry>
        <mesh filename="package://assets/vis_1.stl"/>
      </geometry>
    </collision>
    <!-- Part composant2_8 -->
    <visual>
      <origin xyz="-0.0689457 -1.38778e-16 0.00149936" rpy="-6.39169e-18 1.5708 0"/>
      <geometry>
        <mesh filename="package://assets/composant2.stl"/>
      </geometry>
      <material name="composant2_8_material">
        <color rgba="0.960784 0.960784 0.964706 1"/>
      </material>
    </visual>
    <collision>
      <origin xyz="-0.0689457 -1.38778e-16 0.00149936" rpy="-6.39169e-18 1.5708 0"/>
      <geometry>
        <mesh filename="package://assets/composant2.stl"/>
      </geometry>
    </collision>
    <!-- Part servo_motor_sts3215_v10_8 -->
    <visual>
      <origin xyz="-0.0689457 -1.38778e-16 0.00149936" rpy="-6.39169e-18 1.5708 0"/>
      <geometry>
        <mesh filename="package://assets/servo_motor_sts3215_v10.stl"/>
      </geometry>
      <material name="servo_motor_sts3215_v10_8_material">
        <color rgba="0.247059 0.247059 0.247059 1"/>
      </material>
    </visual>
    <collision>
      <origin xyz="-0.0689457 -1.38778e-16 0.00149936" rpy="-6.39169e-18 1.5708 0"/>
      <geometry>
        <mesh filename="package://assets/servo_motor_sts3215_v10.stl"/>
      </geometry>
    </collision>
  </link>
  <!-- Link servo_holder_3_right -->
  <link name="servo_holder_3_right">
    <inertial>
      <origin xyz="0.0267598 -0.0111946 0.00428741" rpy="0 0 0"/>
      <mass value="0.19139"/>
      <inertia ixx="0.000184101" ixy="-8.75426e-05" ixz="-2.97666e-05" iyy="0.000536224" iyz="-1.61578e-05" izz="0.000608313"/>
    </inertial>
    <!-- Part servo_holder_3_right -->
    <visual>
      <origin xyz="0.0104609 0.00943185 0.270604" rpy="-0.0695773 0.0773707 -2.98693e-18"/>
      <geometry>
        <mesh filename="package://assets/servo_holder_3_right.stl"/>
      </geometry>
      <material name="servo_holder_3_right_material">
        <color rgba="0.301961 0.301961 0.301961 1"/>
      </material>
    </visual>
    <collision>
      <origin xyz="0.0104609 0.00943185 0.270604" rpy="-0.0695773 0.0773707 -2.98693e-18"/>
      <geometry>
        <mesh filename="package://assets/servo_holder_3_right.stl"/>
      </geometry>
    </collision>
    <!-- Part servo_shield_right -->
    <visual>
      <origin xyz="0.0104609 0.00943185 0.270604" rpy="-0.0695773 0.0773707 -1.14342e-16"/>
      <geometry>
        <mesh filename="package://assets/servo_shield_right.stl"/>
      </geometry>
      <material name="servo_shield_right_material">
        <color rgba="0.917647 0.917647 0.917647 1"/>
      </material>
    </visual>
    <collision>
      <origin xyz="0.0104609 0.00943185 0.270604" rpy="-0.0695773 0.0773707 -1.14342e-16"/>
      <geometry>
        <mesh filename="package://assets/servo_shield_right.stl"/>
      </geometry>
    </collision>
    <!-- Part composant4_9 -->
    <visual>
      <origin xyz="0.0732923 0.000197454 0.0178756" rpy="-0.0347365 -2.24164e-17 0.00269405"/>
      <geometry>
        <mesh filename="package://assets/composant4.stl"/>
      </geometry>
      <material name="composant4_9_material">
        <color rgba="0.952941 0.796078 0.486275 1"/>
      </material>
    </visual>
    <collision>
      <origin xyz="0.0732923 0.000197454 0.0178756" rpy="-0.0347365 -2.24164e-17 0.00269405"/>
      <geometry>
        <mesh filename="package://assets/composant4.stl"/>
      </geometry>
    </collision>
    <!-- Part vis_à_tête_tronconique_jis_b_1111___m3_x_4___h_acier_inoxydable_a2_standard_v1_9 -->
    <visual>
      <origin xyz="0.0732923 0.000197454 0.0178756" rpy="-0.0347365 -2.24164e-17 0.00269405"/>
      <geometry>
        <mesh filename="package://assets/vis_à_tête_tronconique_jis_b_1111___m3_x_4___h_acier_inoxydable_a2_standard_v1.stl"/>
      </geometry>
      <material name="vis_à_tête_tronconique_jis_b_1111___m3_x_4___h_acier_inoxydable_a2_standard_v1_9_material">
        <color rgba="0.796078 0.796078 0.796078 1"/>
      </material>
    </visual>
    <collision>
      <origin xyz="0.0732923 0.000197454 0.0178756" rpy="-0.0347365 -2.24164e-17 0.00269405"/>
      <geometry>
        <mesh filename="package://assets/vis_à_tête_tronconique_jis_b_1111___m3_x_4___h_acier_inoxydable_a2_standard_v1.stl"/>
      </geometry>
    </collision>
    <!-- Part vis_9 -->
    <visual>
      <origin xyz="0.0732923 0.000197454 0.0178756" rpy="-0.0347365 -2.24164e-17 0.00269405"/>
      <geometry>
        <mesh filename="package://assets/vis.stl"/>
      </geometry>
      <material name="vis_9_material">
        <color rgba="0.0980392 0.0980392 0.0980392 1"/>
      </material>
    </visual>
    <collision>
      <origin xyz="0.0732923 0.000197454 0.0178756" rpy="-0.0347365 -2.24164e-17 0.00269405"/>
      <geometry>
        <mesh filename="package://assets/vis.stl"/>
      </geometry>
    </collision>
    <!-- Part composant3_9 -->
    <visual>
      <origin xyz="0.0732923 0.000197454 0.0178756" rpy="-0.0347365 -2.24164e-17 0.00269405"/>
      <geometry>
        <mesh filename="package://assets/composant3.stl"/>
      </geometry>
      <material name="composant3_9_material">
        <color rgba="0.960784 0.960784 0.964706 1"/>
      </material>
    </visual>
    <collision>
      <origin xyz="0.0732923 0.000197454 0.0178756" rpy="-0.0347365 -2.24164e-17 0.00269405"/>
      <geometry>
        <mesh filename="package://assets/composant3.stl"/>
      </geometry>
    </collision>
    <!-- Part vis_1_9 -->
    <visual>
      <origin xyz="0.0732923 0.000197454 0.0178756" rpy="-0.0347365 -2.24164e-17 0.00269405"/>
      <geometry>
        <mesh filename="package://assets/vis_1.stl"/>
      </geometry>
      <material name="vis_1_9_material">
        <color rgba="0.0980392 0.0980392 0.0980392 1"/>
      </material>
    </visual>
    <collision>
      <origin xyz="0.0732923 0.000197454 0.0178756" rpy="-0.0347365 -2.24164e-17 0.00269405"/>
      <geometry>
        <mesh filename="package://assets/vis_1.stl"/>
      </geometry>
    </collision>
    <!-- Part composant2_9 -->
    <visual>
      <origin xyz="0.0732923 0.000197454 0.0178756" rpy="-0.0347365 -2.24164e-17 0.00269405"/>
      <geometry>
        <mesh filename="package://assets/composant2.stl"/>
      </geometry>
      <material name="composant2_9_material">
        <color rgba="0.960784 0.960784 0.964706 1"/>
      </material>
    </visual>
    <collision>
      <origin xyz="0.0732923 0.000197454 0.0178756" rpy="-0.0347365 -2.24164e-17 0.00269405"/>
      <geometry>
        <mesh filename="package://assets/composant2.stl"/>
      </geometry>
    </collision>
    <!-- Part servo_motor_sts3215_v10_9 -->
    <visual>
      <origin xyz="0.0732923 0.000197454 0.0178756" rpy="-0.0347365 -2.24164e-17 0.00269405"/>
      <geometry>
        <mesh filename="package://assets/servo_motor_sts3215_v10.stl"/>
      </geometry>
      <material name="servo_motor_sts3215_v10_9_material">
        <color rgba="0.247059 0.247059 0.247059 1"/>
      </material>
    </visual>
    <collision>
      <origin xyz="0.0732923 0.000197454 0.0178756" rpy="-0.0347365 -2.24164e-17 0.00269405"/>
      <geometry>
        <mesh filename="package://assets/servo_motor_sts3215_v10.stl"/>
      </geometry>
    </collision>
  </link>
  <!-- Link servo_holder_4_2 -->
  <link name="servo_holder_4_2">
    <inertial>
      <origin xyz="0.0568324 1.23844e-08 0.0179583" rpy="0 0 0"/>
      <mass value="0.0685705"/>
      <inertia ixx="1.76251e-05" ixy="-1.73396e-11" ixz="3.72672e-07" iyy="5.60759e-05" iyz="-1.06476e-11" izz="4.51319e-05"/>
    </inertial>
    <!-- Part servo_holder_4_2 -->
    <visual>
      <origin xyz="-2.77556e-17 0 0.0364" rpy="2.25642e-18 1.16924e-20 4.86917e-20"/>
      <geometry>
        <mesh filename="package://assets/servo_holder_4.stl"/>
      </geometry>
      <material name="servo_holder_4_2_material">
        <color rgba="0.301961 0.301961 0.301961 1"/>
      </material>
    </visual>
    <collision>
      <origin xyz="-2.77556e-17 0 0.0364" rpy="2.25642e-18 1.16924e-20 4.86917e-20"/>
      <geometry>
        <mesh filename="package://assets/servo_holder_4.stl"/>
      </geometry>
    </collision>
    <!-- Part composant4_10 -->
    <visual>
      <origin xyz="0.0732925 -2.77556e-17 0.0185244" rpy="-3.14159 -1.05775e-16 4.72905e-17"/>
      <geometry>
        <mesh filename="package://assets/composant4.stl"/>
      </geometry>
      <material name="composant4_10_material">
        <color rgba="0.952941 0.796078 0.486275 1"/>
      </material>
    </visual>
    <collision>
      <origin xyz="0.0732925 -2.77556e-17 0.0185244" rpy="-3.14159 -1.05775e-16 4.72905e-17"/>
      <geometry>
        <mesh filename="package://assets/composant4.stl"/>
      </geometry>
    </collision>
    <!-- Part vis_à_tête_tronconique_jis_b_1111___m3_x_4___h_acier_inoxydable_a2_standard_v1_10 -->
    <visual>
      <origin xyz="0.0732925 -2.77556e-17 0.0185244" rpy="-3.14159 -1.05775e-16 4.72905e-17"/>
      <geometry>
        <mesh filename="package://assets/vis_à_tête_tronconique_jis_b_1111___m3_x_4___h_acier_inoxydable_a2_standard_v1.stl"/>
      </geometry>
      <material name="vis_à_tête_tronconique_jis_b_1111___m3_x_4___h_acier_inoxydable_a2_standard_v1_10_material">
        <color rgba="0.796078 0.796078 0.796078 1"/>
      </material>
    </visual>
    <collision>
      <origin xyz="0.0732925 -2.77556e-17 0.0185244" rpy="-3.14159 -1.05775e-16 4.72905e-17"/>
      <geometry>
        <mesh filename="package://assets/vis_à_tête_tronconique_jis_b_1111___m3_x_4___h_acier_inoxydable_a2_standard_v1.stl"/>
      </geometry>
    </collision>
    <!-- Part vis_10 -->
    <visual>
      <origin xyz="0.0732925 -2.77556e-17 0.0185244" rpy="-3.14159 -1.05775e-16 4.72905e-17"/>
      <geometry>
        <mesh filename="package://assets/vis.stl"/>
      </geometry>
      <material name="vis_10_material">
        <color rgba="0.0980392 0.0980392 0.0980392 1"/>
      </material>
    </visual>
    <collision>
      <origin xyz="0.0732925 -2.77556e-17 0.0185244" rpy="-3.14159 -1.05775e-16 4.72905e-17"/>
      <geometry>
        <mesh filename="package://assets/vis.stl"/>
      </geometry>
    </collision>
    <!-- Part composant3_10 -->
    <visual>
      <origin xyz="0.0732925 -2.77556e-17 0.0185244" rpy="-3.14159 -1.05775e-16 4.72905e-17"/>
      <geometry>
        <mesh filename="package://assets/composant3.stl"/>
      </geometry>
      <material name="composant3_10_material">
        <color rgba="0.960784 0.960784 0.964706 1"/>
      </material>
    </visual>
    <collision>
      <origin xyz="0.0732925 -2.77556e-17 0.0185244" rpy="-3.14159 -1.05775e-16 4.72905e-17"/>
      <geometry>
        <mesh filename="package://assets/composant3.stl"/>
      </geometry>
    </collision>
    <!-- Part vis_1_10 -->
    <visual>
      <origin xyz="0.0732925 -2.77556e-17 0.0185244" rpy="-3.14159 -1.05775e-16 4.72905e-17"/>
      <geometry>
        <mesh filename="package://assets/vis_1.stl"/>
      </geometry>
      <material name="vis_1_10_material">
        <color rgba="0.0980392 0.0980392 0.0980392 1"/>
      </material>
    </visual>
    <collision>
      <origin xyz="0.0732925 -2.77556e-17 0.0185244" rpy="-3.14159 -1.05775e-16 4.72905e-17"/>
      <geometry>
        <mesh filename="package://assets/vis_1.stl"/>
      </geometry>
    </collision>
    <!-- Part composant2_10 -->
    <visual>
      <origin xyz="0.0732925 -2.77556e-17 0.0185244" rpy="-3.14159 -1.05775e-16 4.72905e-17"/>
      <geometry>
        <mesh filename="package://assets/composant2.stl"/>
      </geometry>
      <material name="composant2_10_material">
        <color rgba="0.960784 0.960784 0.964706 1"/>
      </material>
    </visual>
    <collision>
      <origin xyz="0.0732925 -2.77556e-17 0.0185244" rpy="-3.14159 -1.05775e-16 4.72905e-17"/>
      <geometry>
        <mesh filename="package://assets/composant2.stl"/>
      </geometry>
    </collision>
    <!-- Part servo_motor_sts3215_v10_10 -->
    <visual>
      <origin xyz="0.0732925 -2.77556e-17 0.0185244" rpy="-3.14159 -1.05775e-16 4.72905e-17"/>
      <geometry>
        <mesh filename="package://assets/servo_motor_sts3215_v10.stl"/>
      </geometry>
      <material name="servo_motor_sts3215_v10_10_material">
        <color rgba="0.247059 0.247059 0.247059 1"/>
      </material>
    </visual>
    <collision>
      <origin xyz="0.0732925 -2.77556e-17 0.0185244" rpy="-3.14159 -1.05775e-16 4.72905e-17"/>
      <geometry>
        <mesh filename="package://assets/servo_motor_sts3215_v10.stl"/>
      </geometry>
    </collision>
  </link>
  <!-- Link cushion_right -->
  <link name="cushion_right">
    <inertial>
      <origin xyz="-0.0194706 -0.0420367 0.0158895" rpy="0 0 0"/>
      <mass value="0.191143"/>
      <inertia ixx="6.61931e-05" ixy="-3.74292e-06" ixz="-1.39333e-06" iyy="0.000224241" iyz="9.58456e-06" izz="0.00023826"/>
    </inertial>
    <!-- Part cushion_right -->
    <visual>
      <origin xyz="-5.55112e-17 -0.0516163 0.132131" rpy="-1.5708 -1.5708 0"/>
      <geometry>
        <mesh filename="package://assets/cushion_right.stl"/>
      </geometry>
      <material name="cushion_right_material">
        <color rgba="0 0 0 1"/>
      </material>
    </visual>
    <collision>
      <origin xyz="-5.55112e-17 -0.0516163 0.132131" rpy="-1.5708 -1.5708 0"/>
      <geometry>
        <mesh filename="package://assets/cushion_right.stl"/>
      </geometry>
    </collision>
    <!-- Part foot_right -->
    <visual>
      <origin xyz="-2.77556e-17 -0.0516163 0.132131" rpy="-1.5708 -1.5708 0"/>
      <geometry>
        <mesh filename="package://assets/foot_right.stl"/>
      </geometry>
      <material name="foot_right_material">
        <color rgba="0.917647 0.917647 0.917647 1"/>
      </material>
    </visual>
  </link>
  <!-- Joint from servo_holder_4_2 to cushion_right -->
  <joint name="joint_5_right" type="revolute">
    <origin xyz="0.0857925 -5.55112e-17 -0.0001756" rpy="-2.82877e-16 -1.70324e-16 1.5708"/>
    <parent link="servo_holder_4_2"/>
    <child link="cushion_right"/>
    <axis xyz="0 0 1"/>
    <limit effort="2.686" velocity="9.01" lower="-1.5708" upper="1.22173"/>
    <dynamics damping="0.1" friction="0.05"/>
  </joint>
  <!-- Joint from servo_holder_3_right to servo_holder_4_2 -->
  <joint name="joint_4_right" type="revolute">
    <origin xyz="0.0857939 -0.000383581 0.000186281" rpy="-0.0347365 -2.58859e-17 0.00269405"/>
    <parent link="servo_holder_3_right"/>
    <child link="servo_holder_4_2"/>
    <axis xyz="0 0 1"/>
    <limit effort="2.686" velocity="9.01" lower="-1.13446" upper="0.558505"/>
    <dynamics damping="0.1" friction="0.05"/>
  </joint>
  <!-- Joint from servo_holder_2_right to servo_holder_3_right -->
  <joint name="joint_3_right" type="revolute">
    <origin xyz="-0.0866457 -6.93889e-17 -0.0110006" rpy="-1.5708 -1.673e-16 -1.5708"/>
    <parent link="servo_holder_2_right"/>
    <child link="servo_holder_3_right"/>
    <axis xyz="0 0 1"/>
    <limit effort="2.686" velocity="9.01" lower="-3.14159" upper="0.349066"/>
    <dynamics damping="0.1" friction="0.05"/>
  </joint>
  <!-- Joint from servo_holder_1_2 to servo_holder_2_right -->
  <joint name="joint_2_right" type="revolute">
    <origin xyz="-0.0187 0 -0.0432" rpy="1.5708 -6.16298e-33 1.5708"/>
    <parent link="servo_holder_1_2"/>
    <child link="servo_holder_2_right"/>
    <axis xyz="0 0 1"/>
    <limit effort="2.686" velocity="9.01" lower="-0.698132" upper="0.785398"/>
    <dynamics damping="0.1" friction="0.05"/>
  </joint>
  <!-- Joint from front_panel to servo_holder_1_2 -->
  <joint name="joint_1_right" type="revolute">
    <origin xyz="-0.0505 0.0969262 -0.0255029" rpy="3.02761e-17 -1.58527e-19 -1.5708"/>
    <parent link="front_panel"/>
    <child link="servo_holder_1_2"/>
    <axis xyz="0 0 1"/>
    <limit effort="2.686" velocity="9.01" lower="-0.349066" upper="0.349066"/>
    <dynamics damping="0.1" friction="0.05"/>
  </joint>
</robot>
